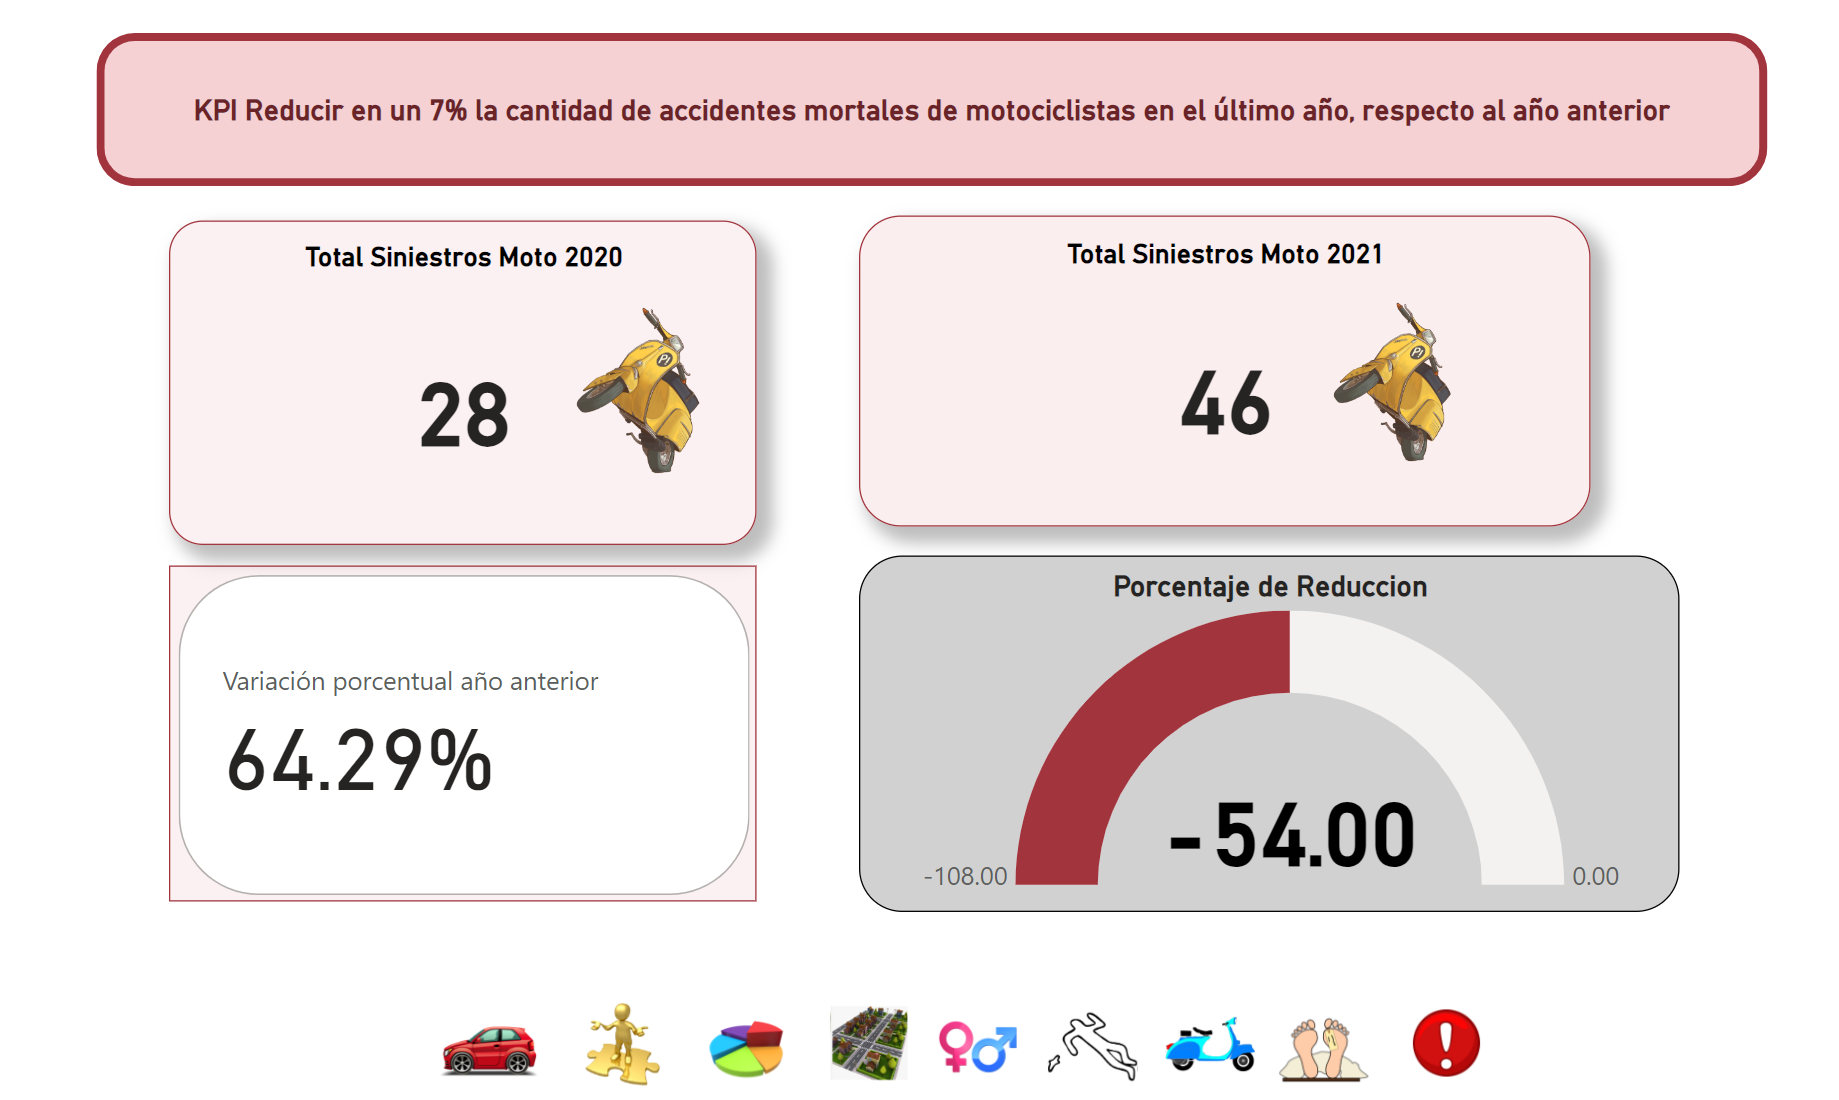

This screenshot's page, from the dashboard's own definition file:
{"tool":"powerbi","page":{"name":"KPI2","canvas":[1280,720],"ordinal":4},"visuals":[{"type":"textbox","box":[74.7,31.9,1140.7,87.9],"z":0},{"type":"card","title":"Total Victimas Moto 2020","fields":{"Values":["Homicidios_clean.Total V Moto2020"]},"box":[93.4,171.4,427.5,149.5],"z":1},{"type":"card","title":"Total Victimas Moto 2021","fields":{"Values":["Homicidios_clean.Total V Moto2021"]},"box":[674.7,225.3,485.7,149.5],"z":2},{"type":"gauge","title":"Porcentaje Disminucion","fields":{"Y":["Homicidios_clean.Porcentaje_Reduccion_moto"]},"box":[700,501.1,415.4,148.4],"z":3},{"type":"card","fields":{"Values":["Homicidios_clean.Variación porcentual año anterior"]},"box":[179.1,437.4,374.7,150.5],"z":4},{"type":"actionButton","box":[0,0,45.1,41.8],"z":5}]}

Visuals, with their boxes on the page's 1280x720 design canvas (x1, y1, x2, y2). These are canvas units, not pixel positions in the 1839x1100 screenshot, which may show the page scaled, cropped or inside an application window:
textbox: 75:32:1215:120
"Total Victimas Moto 2020" card: 93:171:521:321
"Total Victimas Moto 2021" card: 675:225:1160:375
"Porcentaje Disminucion" gauge: 700:501:1115:650
card - Homicidios_clean.Variación porcentual año anterior: 179:437:554:588
actionButton: 0:0:45:42
